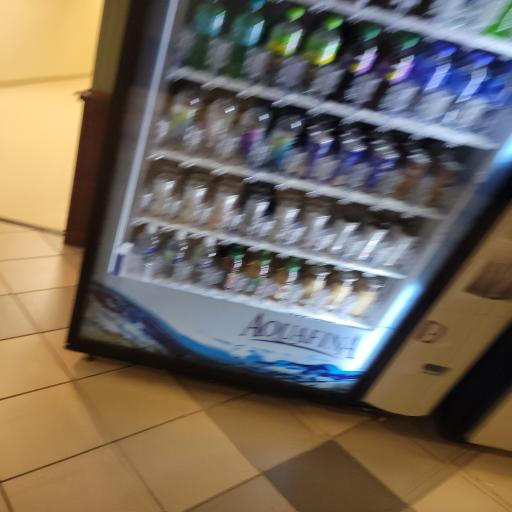vending machine: (67, 14, 512, 357)
